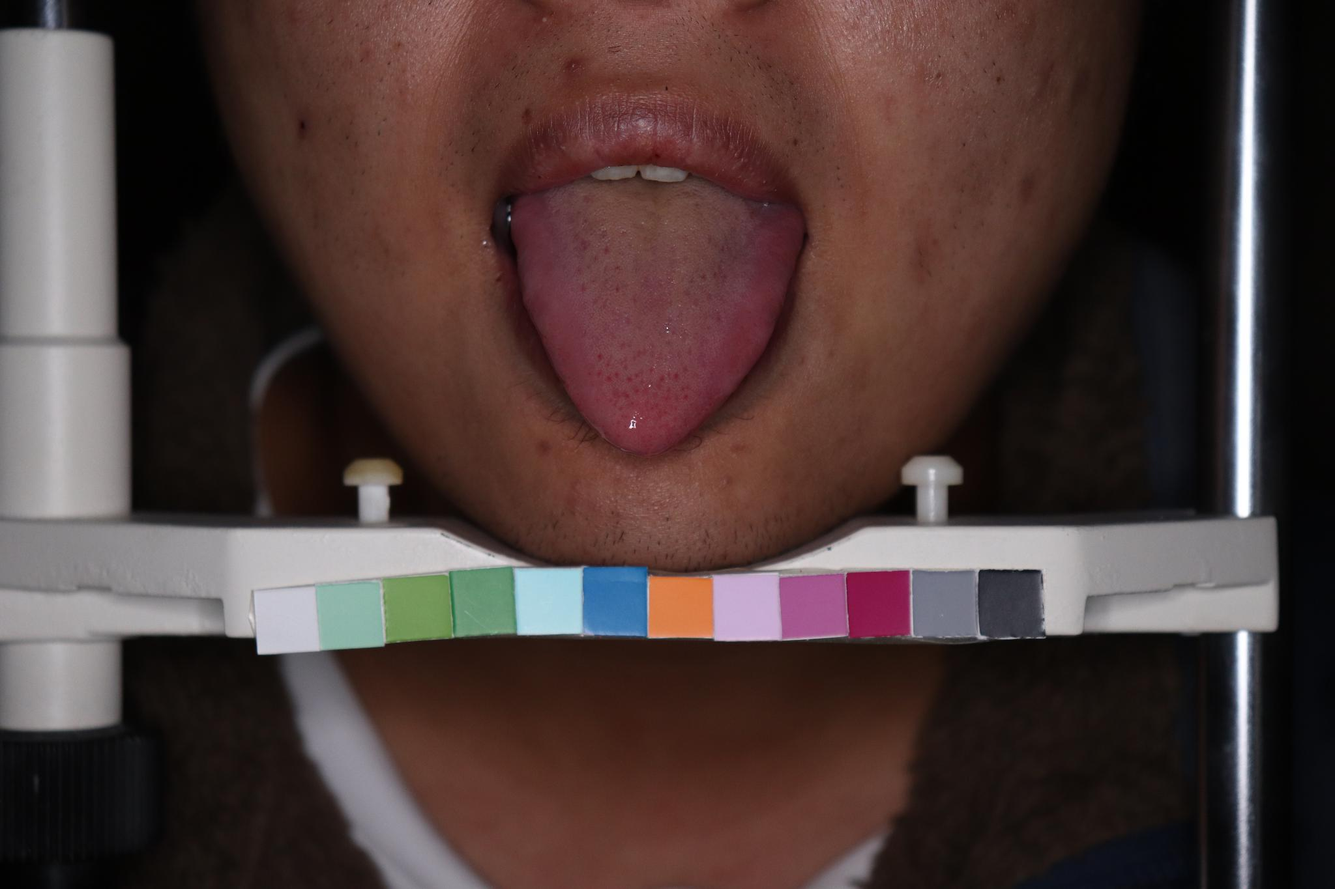hongdianshe: (613, 282, 620, 294), (624, 374, 633, 383), (621, 391, 630, 400), (602, 374, 611, 383), (657, 373, 665, 383), (673, 371, 680, 382), (594, 351, 601, 360), (612, 369, 619, 378), (681, 393, 688, 402), (634, 386, 639, 394)
hongshe: (510, 176, 804, 456)
huangtaishe: (510, 176, 804, 456)
